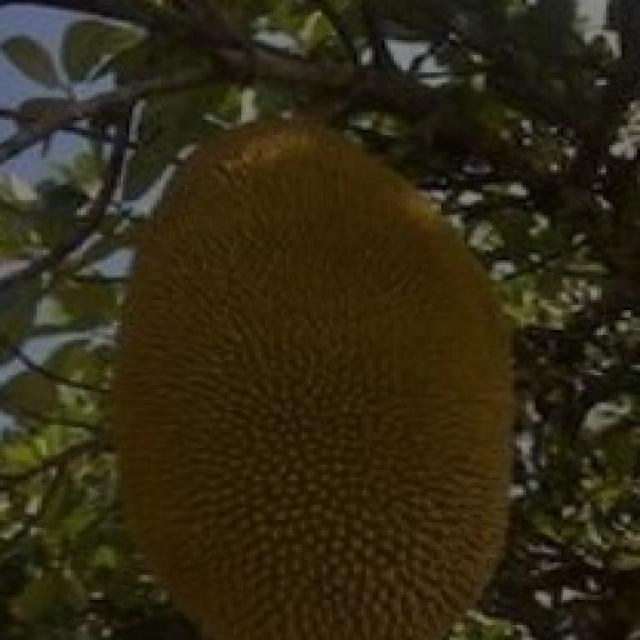Fruit: (264, 237, 569, 640)
